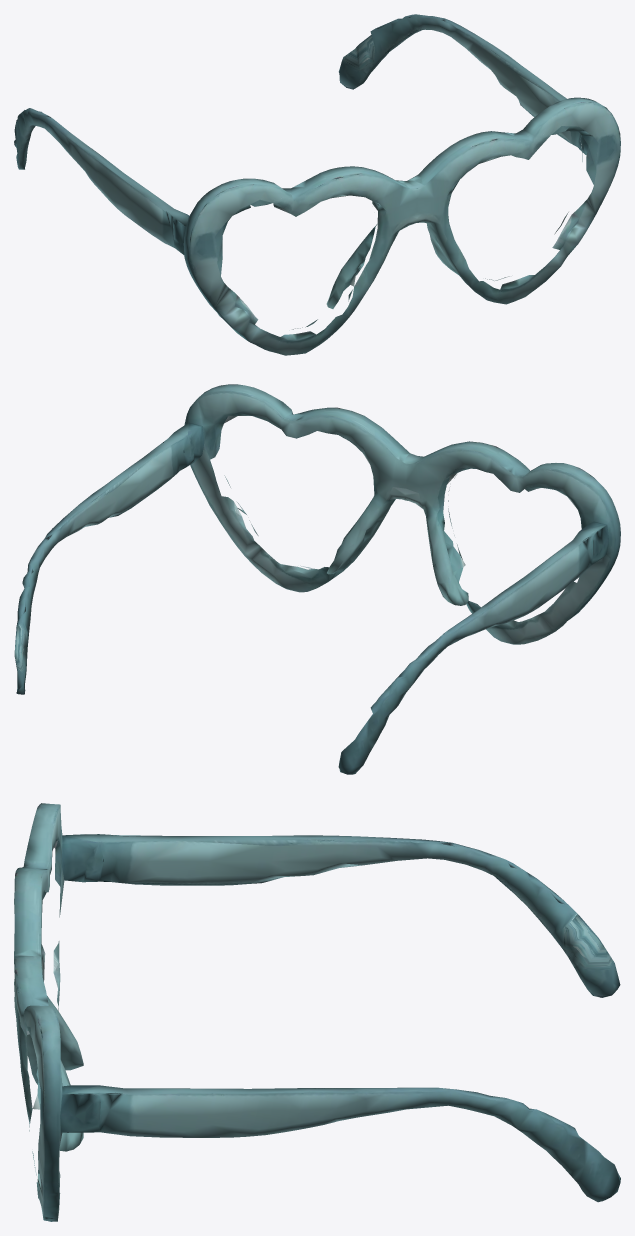
The model's file is head_accessory__0_088-.glb.
3 views of the same model, one above another, from view 1: azimuth 30°, elevation 25°; view 2: azimuth 150°, elevation 25°; view 3: azimuth 270°, elevation 25° (orthographic). The views are drawn at different scales.
Visible parts, largest first — view 1: geometry_0_088; view 2: geometry_0_088; view 3: geometry_0_088.
Part boxes in pixels (x1=…): geometry_0_088: x1=14, y1=14, x2=620, y2=355; geometry_0_088: x1=14, y1=384, x2=620, y2=774; geometry_0_088: x1=14, y1=803, x2=620, y2=1221.
Size of the model in its own units: 0.7784 by 0.3207 by 0.7471.
1 material, 1 textured.
